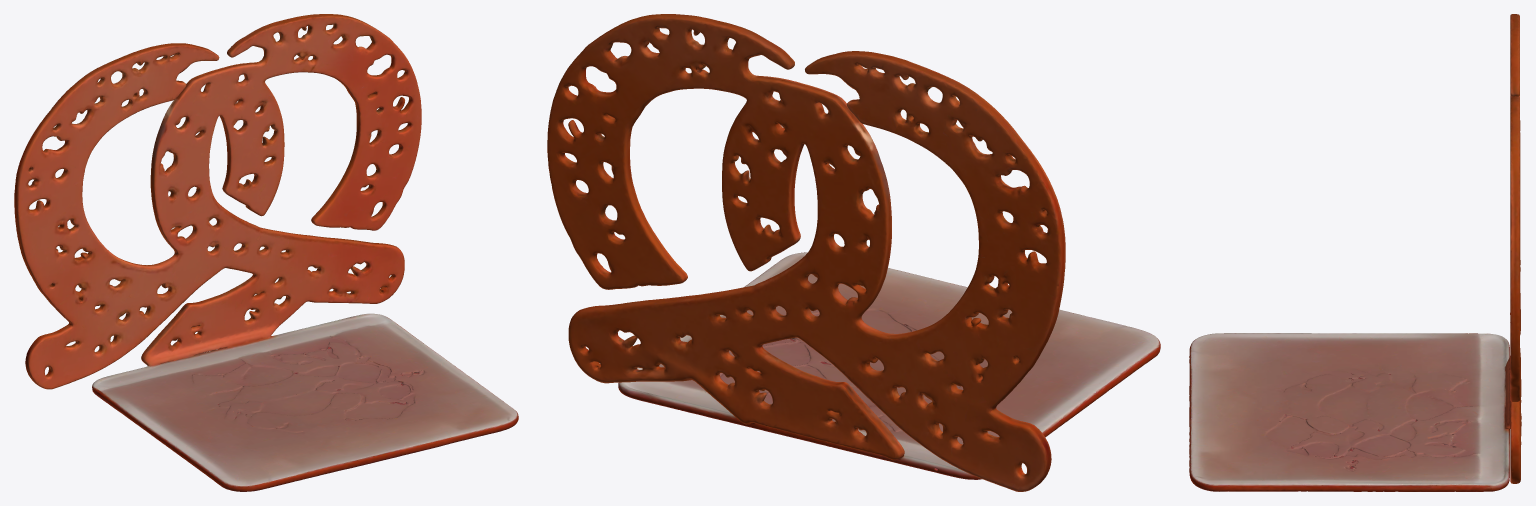
The model's file is pretzel.glb.
The picture shows the model from 3 angles, left to right: view 1: azimuth 30°, elevation 25°; view 2: azimuth 150°, elevation 25°; view 3: azimuth 270°, elevation 25°; orthographic projection. The views are drawn at different scales.
Parts seen in each view (by area): view 1: geometry_0; view 2: geometry_0; view 3: geometry_0.
Boxes of the visible parts, x1,y1,x2,y2 form: geometry_0: [14, 14, 518, 491]; geometry_0: [547, 14, 1160, 491]; geometry_0: [1189, 14, 1521, 491].
Size of the model in its own units: 1 by 0.7658 by 0.6679.
Materials: 1 (1 with a texture image).
